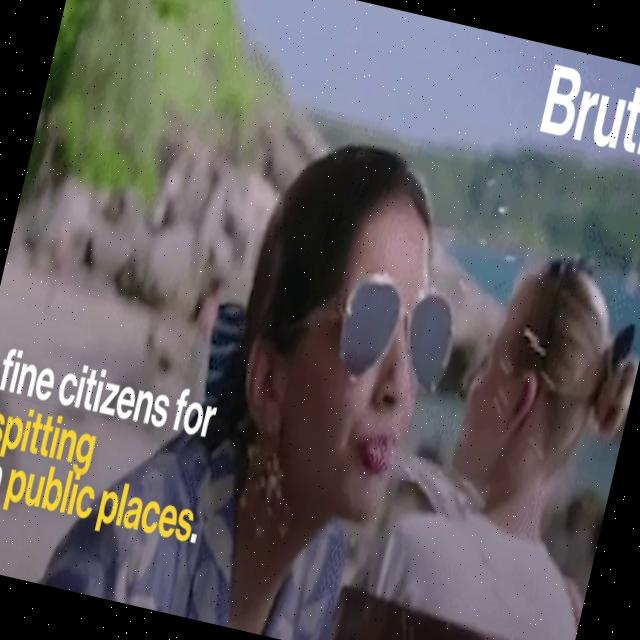spit: (253, 128, 571, 640)
